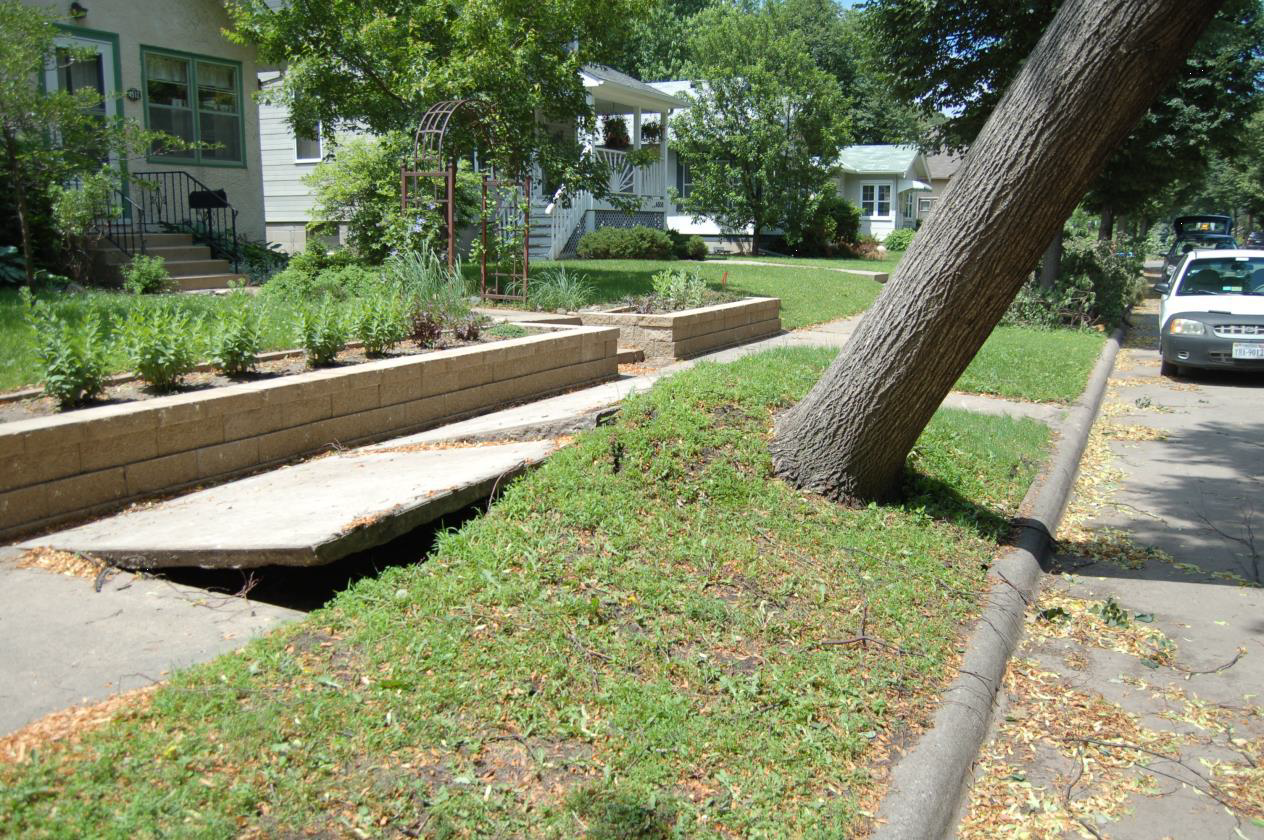Car: (1154, 242, 1264, 382)
Tree: (635, 1, 883, 278)
